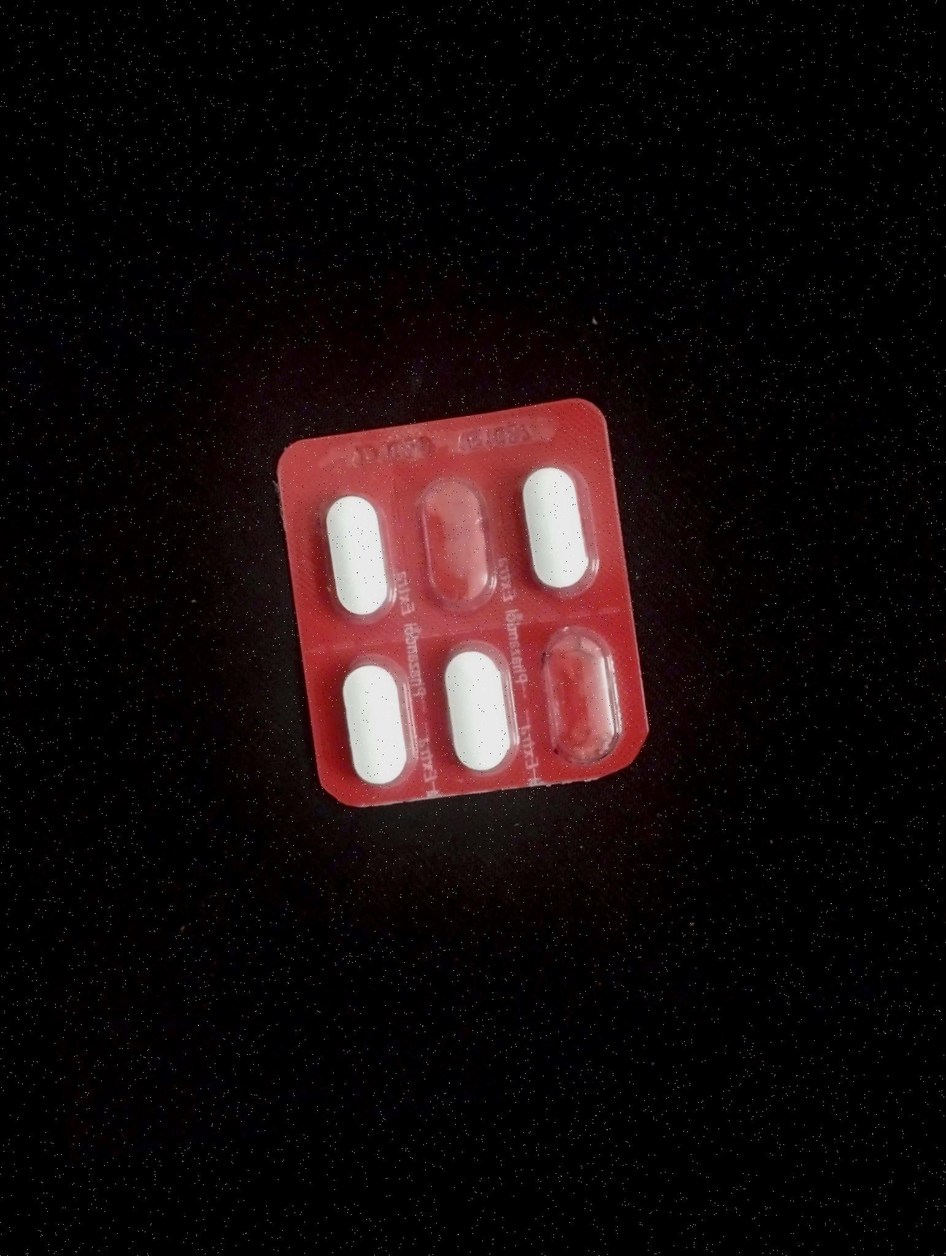Empty: (523, 619, 630, 772), (404, 462, 502, 615)
Full: (309, 479, 397, 628), (431, 638, 518, 782), (514, 454, 601, 597), (331, 653, 416, 798)
